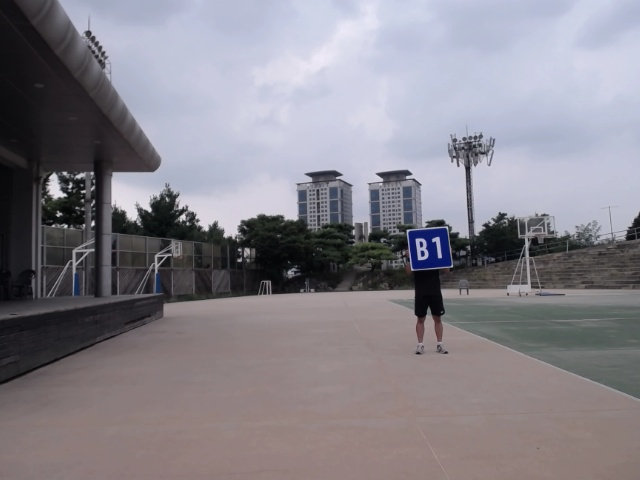delivery_b1: (407, 227, 453, 270)
